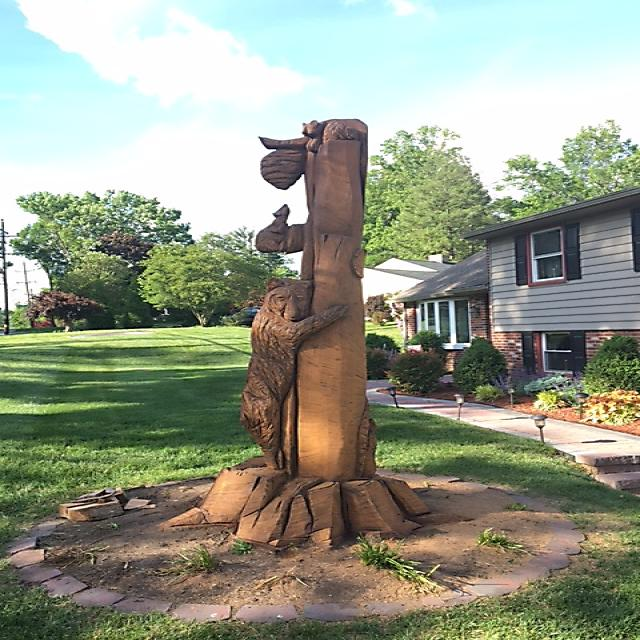Woods: (181, 119, 432, 553)
